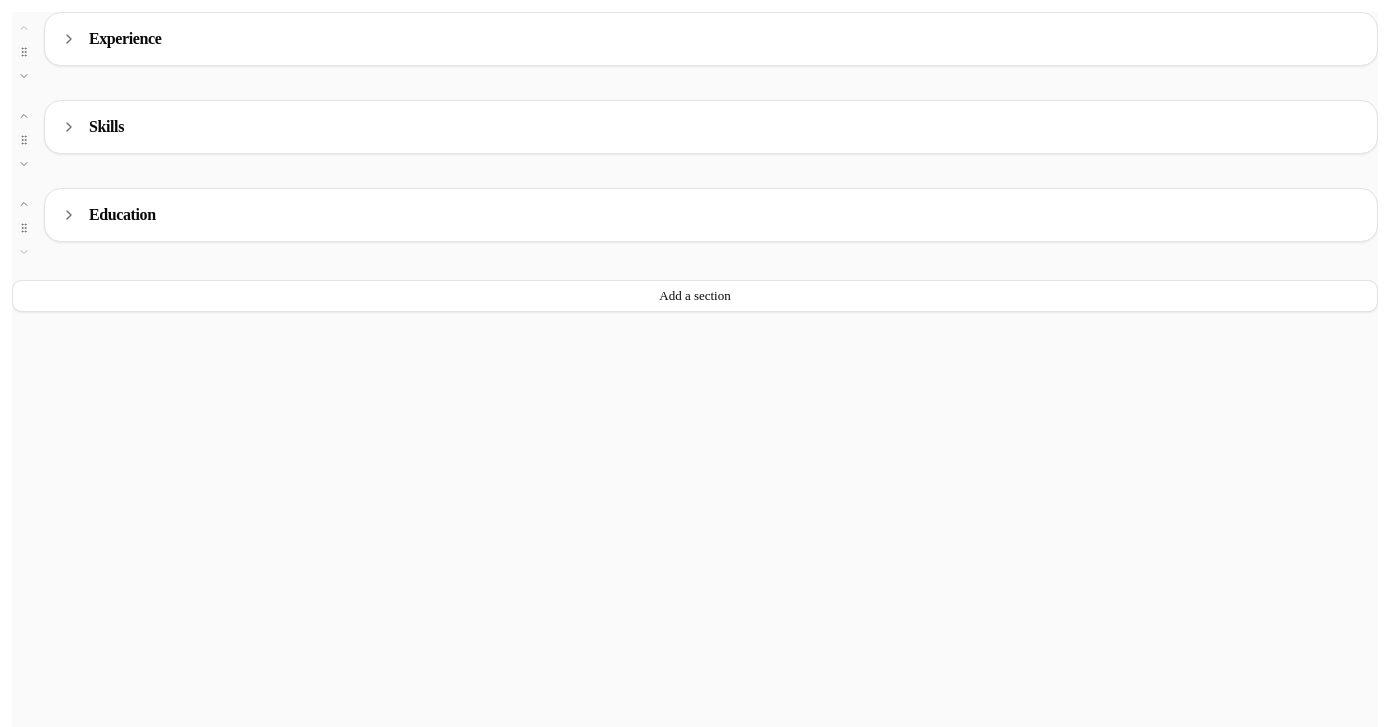
it: the section list › starts collapsed and loads a section’s atoms only when opened
The width and height of the screenshot is (1390, 727).
Click the button "Experience": click(125, 38) [45,13,1377,65]
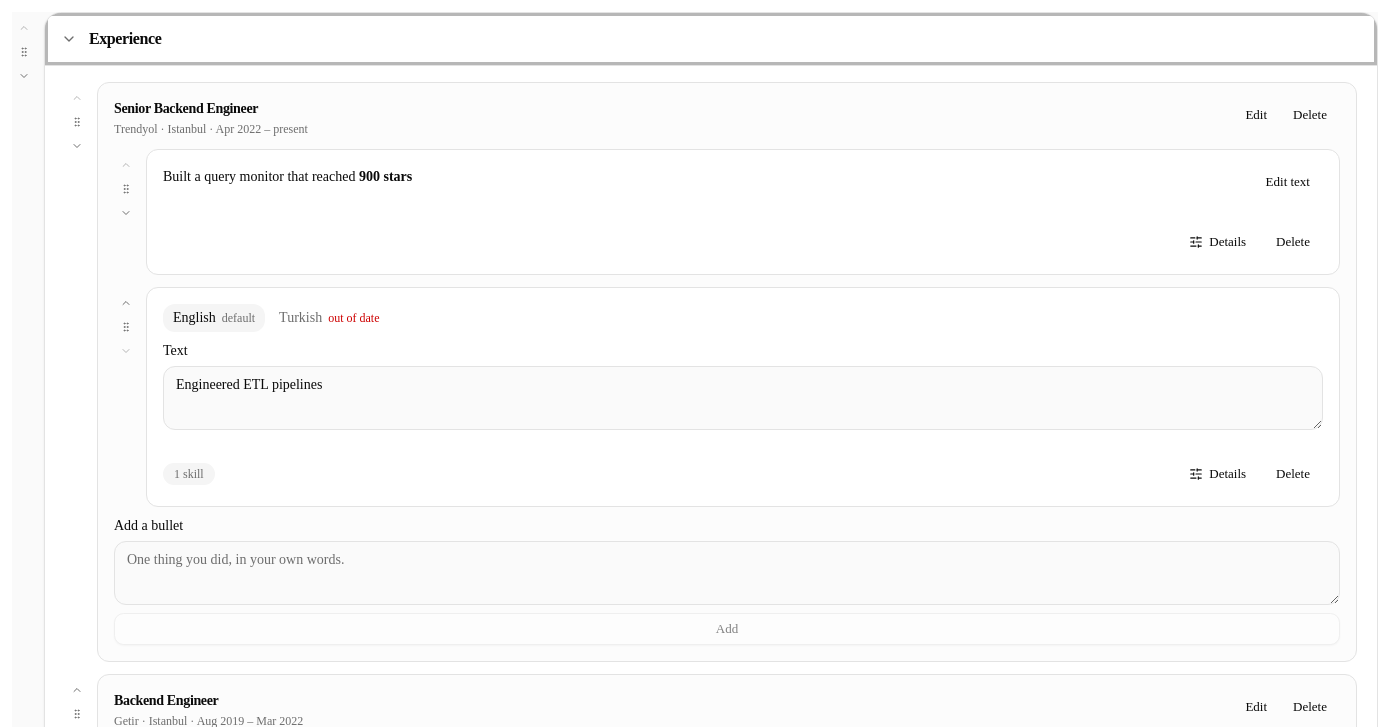
Now the button "Experience" is expanded, box [45,13,1377,65]
